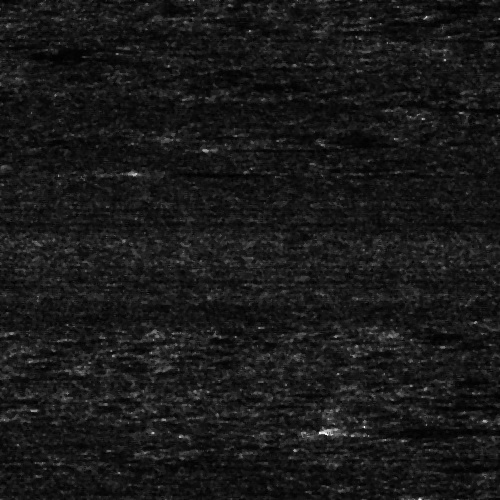object: (322, 421, 395, 434), (105, 167, 188, 176), (366, 103, 449, 110), (397, 404, 450, 409)
shadow: (359, 421, 500, 434), (147, 167, 243, 176), (408, 103, 500, 110), (424, 404, 500, 409), (0, 179, 9, 184)
